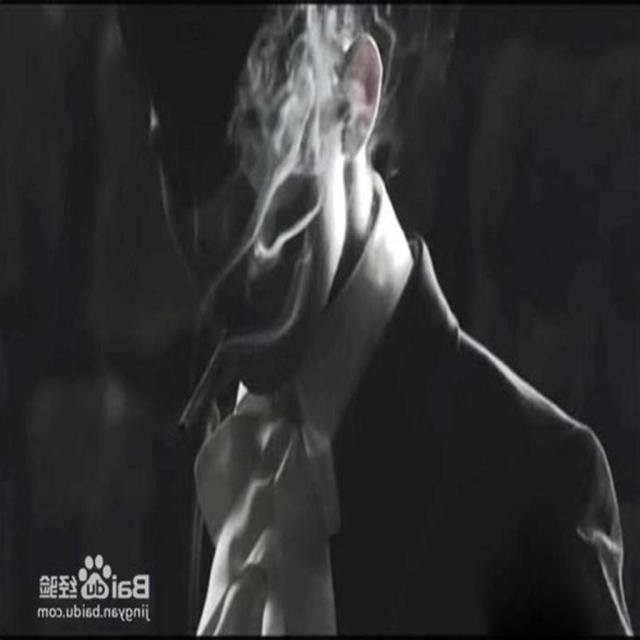smoking: (92, 3, 427, 466)
